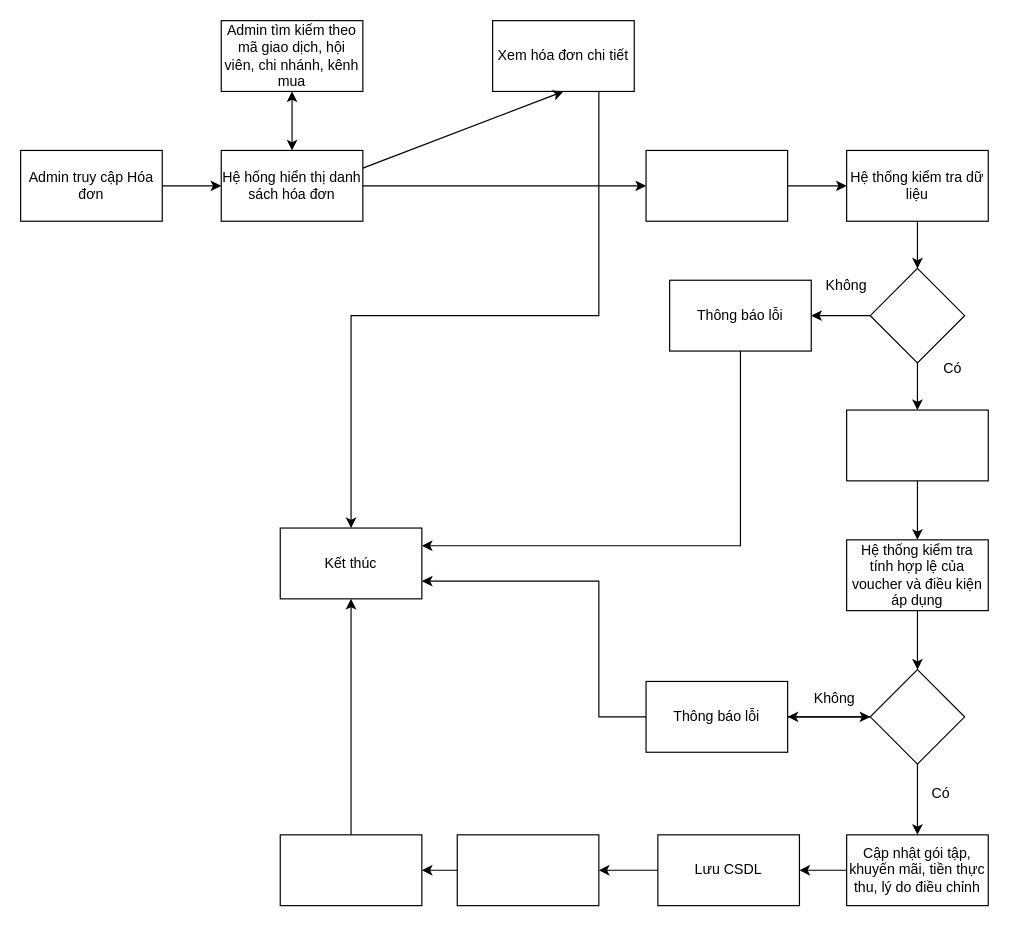
The diagram is 1009 pixels wide and 926 high, and some of its shapes have lost their labels. Here are the shapes that lost their labels. From the top down, the box of each, then its label:
(645, 149, 788, 221): Sửa hóa đơn
(869, 267, 965, 363): Cho phép sửa không
(845, 409, 988, 481): Tiến hành sửa
(869, 668, 965, 764): Hợp lệ?
(279, 834, 422, 906): Thông báo thành công
(456, 834, 599, 906): Ghi Auditlog
